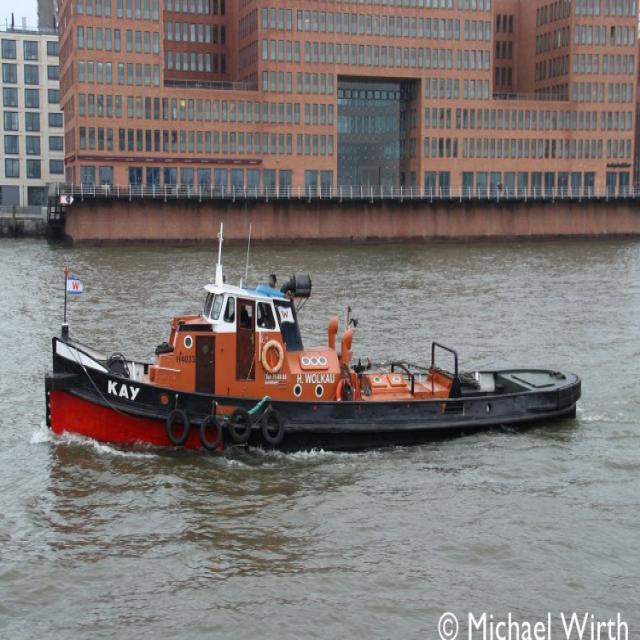tugboat: (41, 229, 586, 472)
